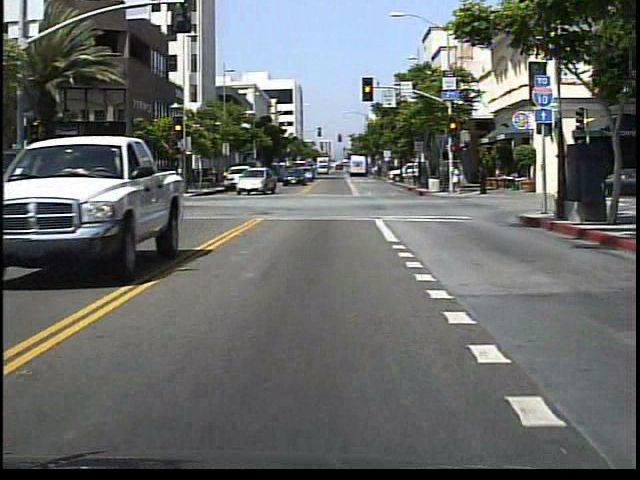person: (475, 162, 490, 196), (451, 162, 465, 197), (166, 166, 180, 196)
